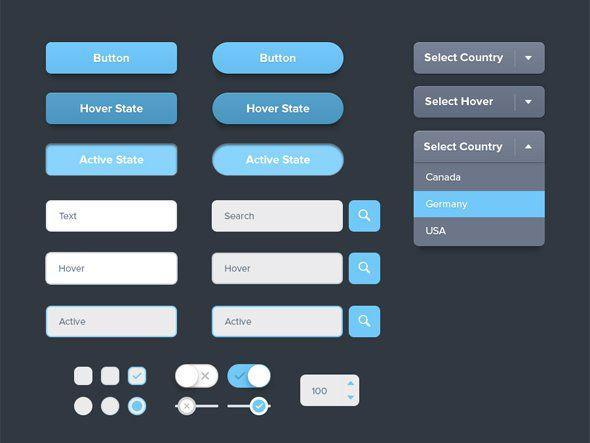button: (213, 42, 345, 75), (213, 145, 345, 177), (47, 93, 178, 125), (214, 94, 344, 126), (46, 44, 178, 75), (47, 146, 179, 176), (416, 163, 545, 192), (416, 218, 545, 247), (416, 191, 545, 217)
checkbox: (101, 367, 121, 386), (75, 368, 94, 386), (128, 368, 147, 386)
dropdown: (415, 43, 545, 76), (415, 87, 546, 119), (415, 132, 545, 163), (302, 376, 359, 407)
icon: (350, 254, 381, 285), (350, 307, 380, 338), (351, 202, 381, 232)
input: (47, 253, 179, 286), (214, 253, 343, 286), (47, 201, 179, 233), (213, 201, 343, 233), (48, 307, 179, 338), (212, 308, 344, 338)
radio: (101, 398, 121, 418), (128, 397, 148, 417), (74, 398, 94, 417)
switch: (175, 365, 220, 389), (229, 365, 272, 389), (228, 397, 273, 417), (175, 397, 219, 416)
